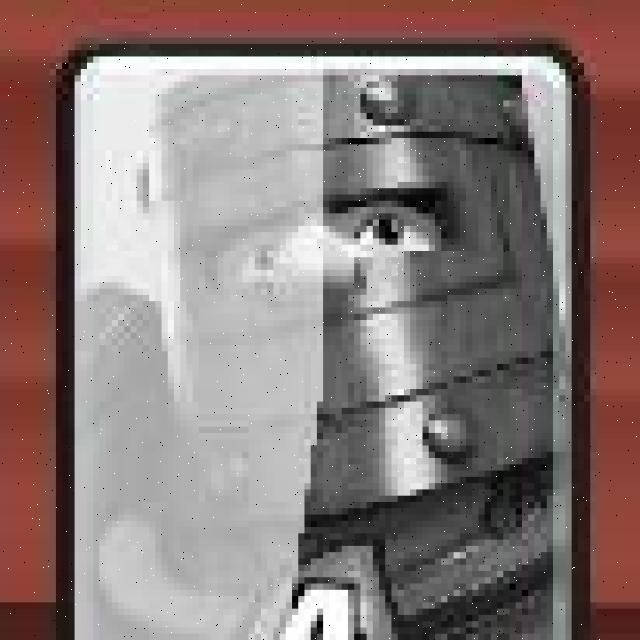Dark_Prince: (56, 39, 581, 640)
